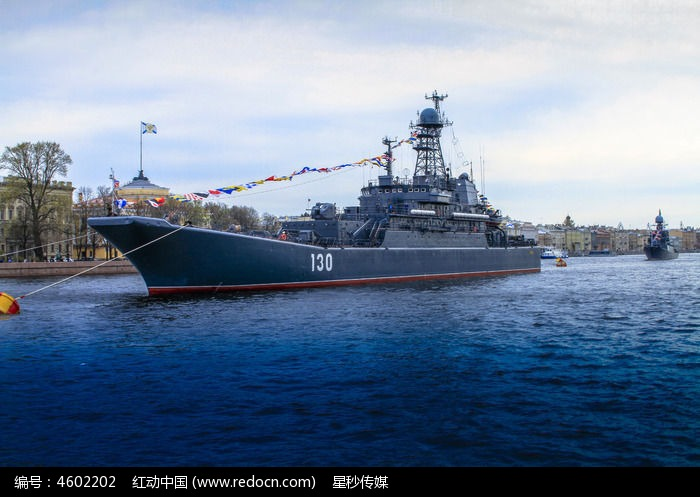warship: (75, 106, 548, 308), (638, 208, 681, 267)
